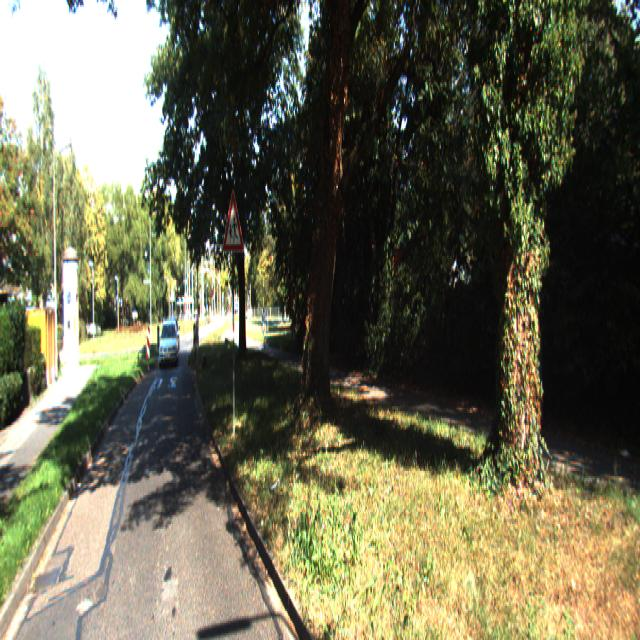Car: (158, 322, 177, 371)
